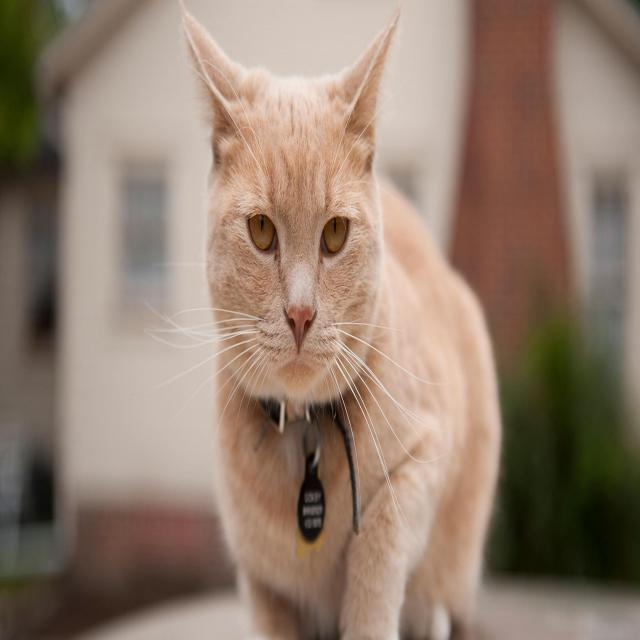Cat: (175, 6, 402, 430)
